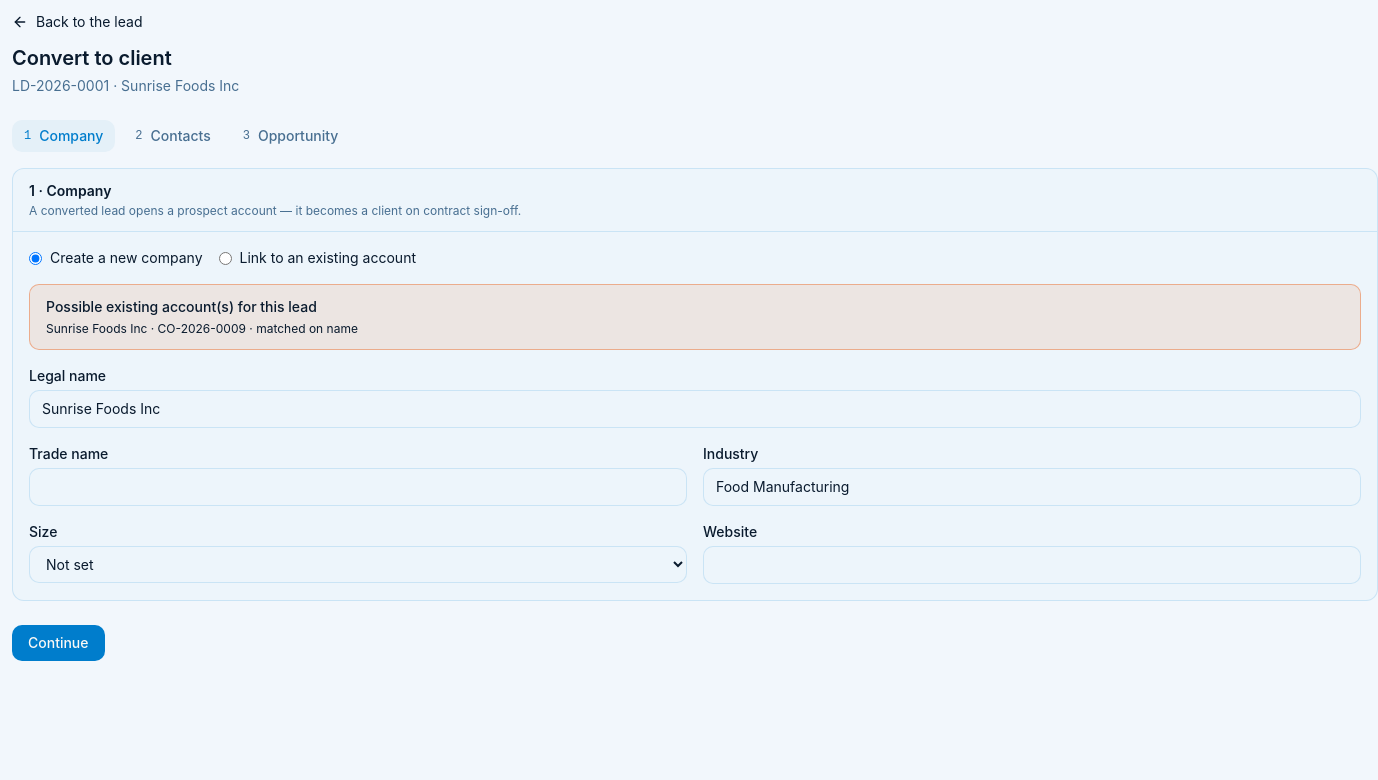
Test: LeadConversion wizard › offers the deal amount to a manager
Check: the heading "Convert to client" is shown, box [12,46,172,70]
Click the button "Continue". click: (58, 643)
box: [12,625,104,661]
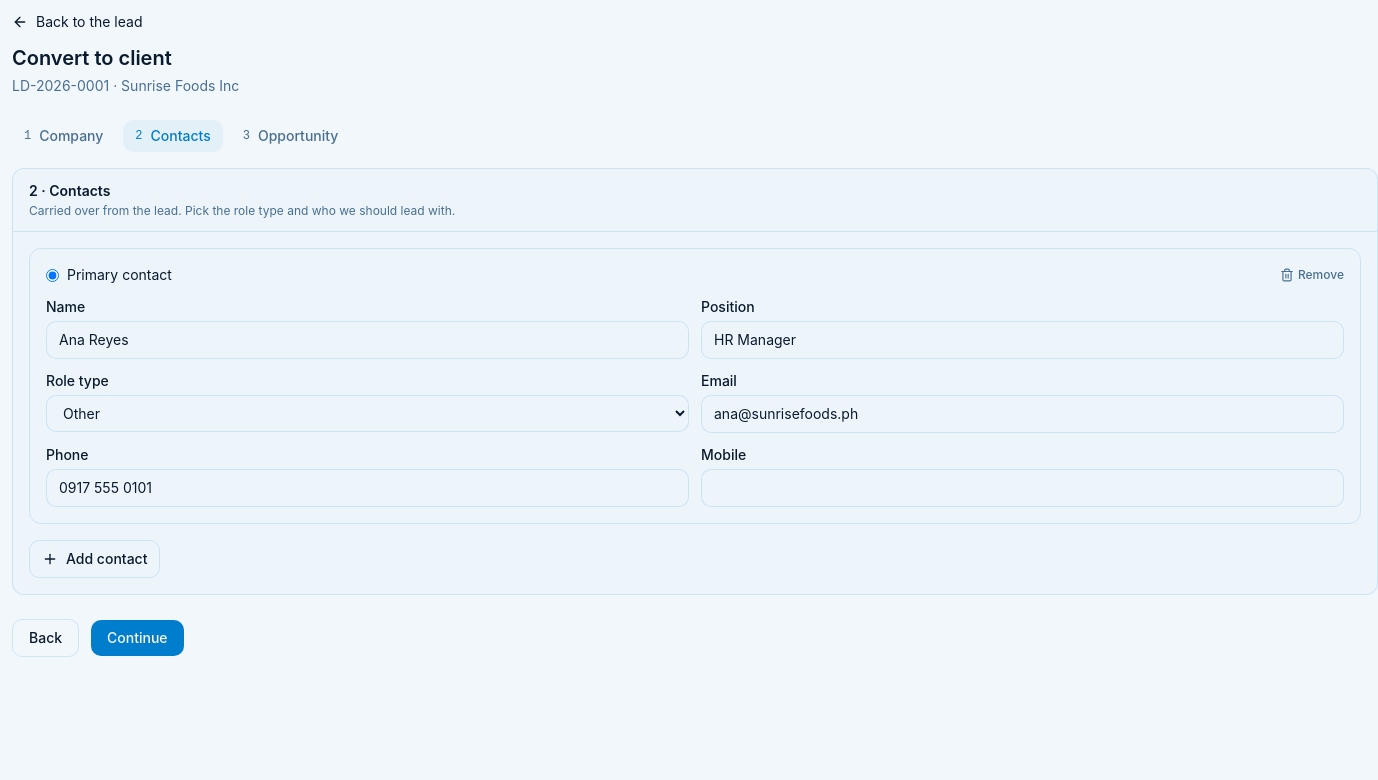
Click the button "Continue". click: (137, 638)
box: [91,620,184,656]
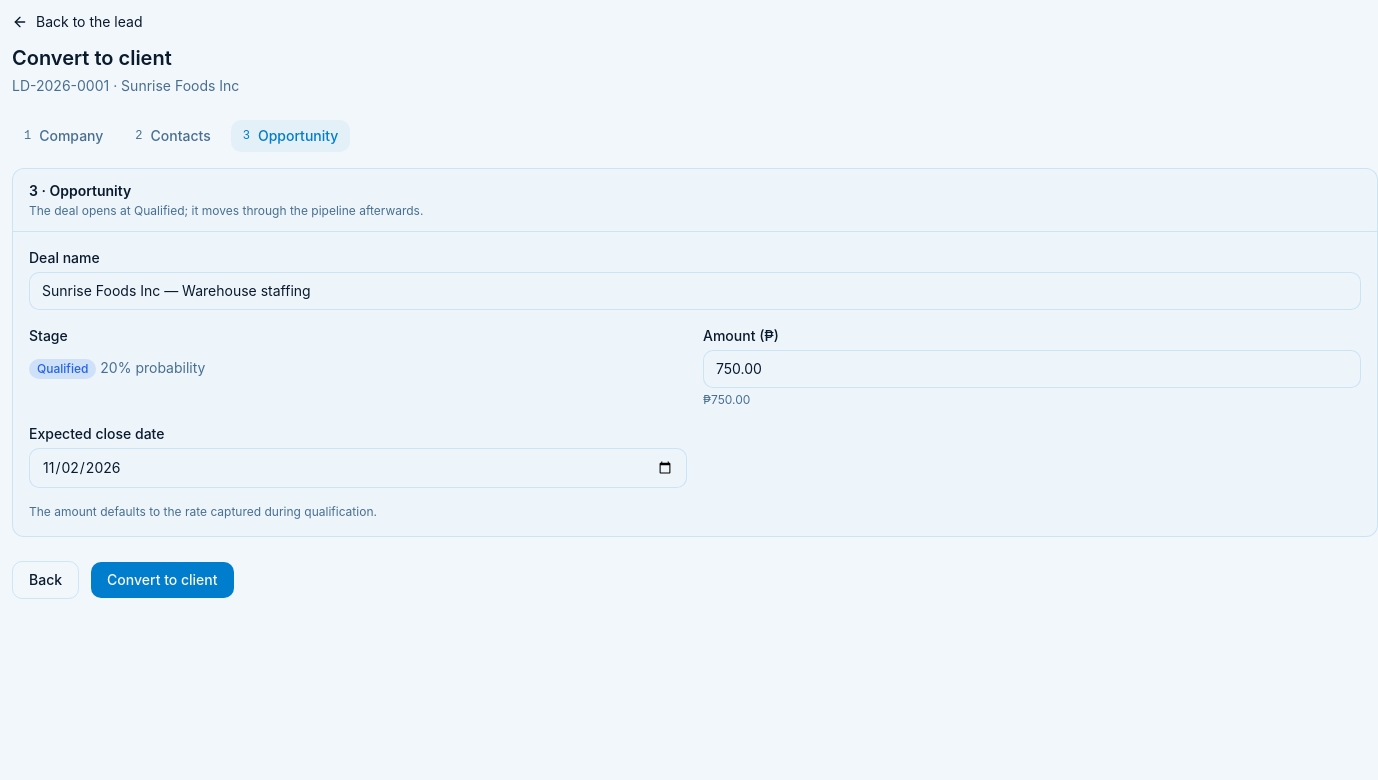
Check: the number field labelled "Amount (₱) ₱750.00" holds "750", box [703,350,1361,388]
